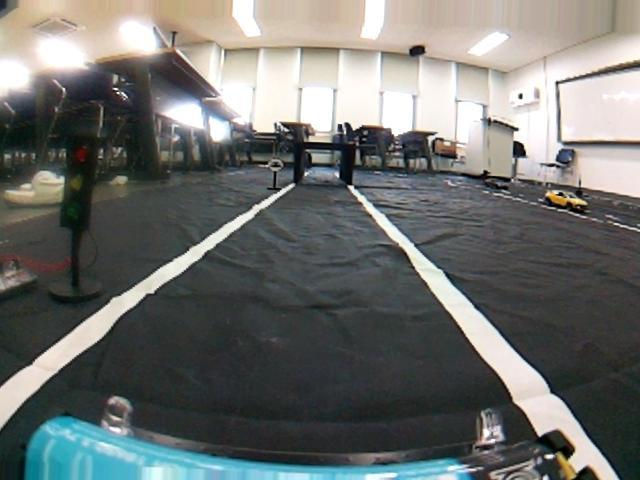red_light: (56, 135, 107, 237)
straight: (118, 203, 482, 475)
